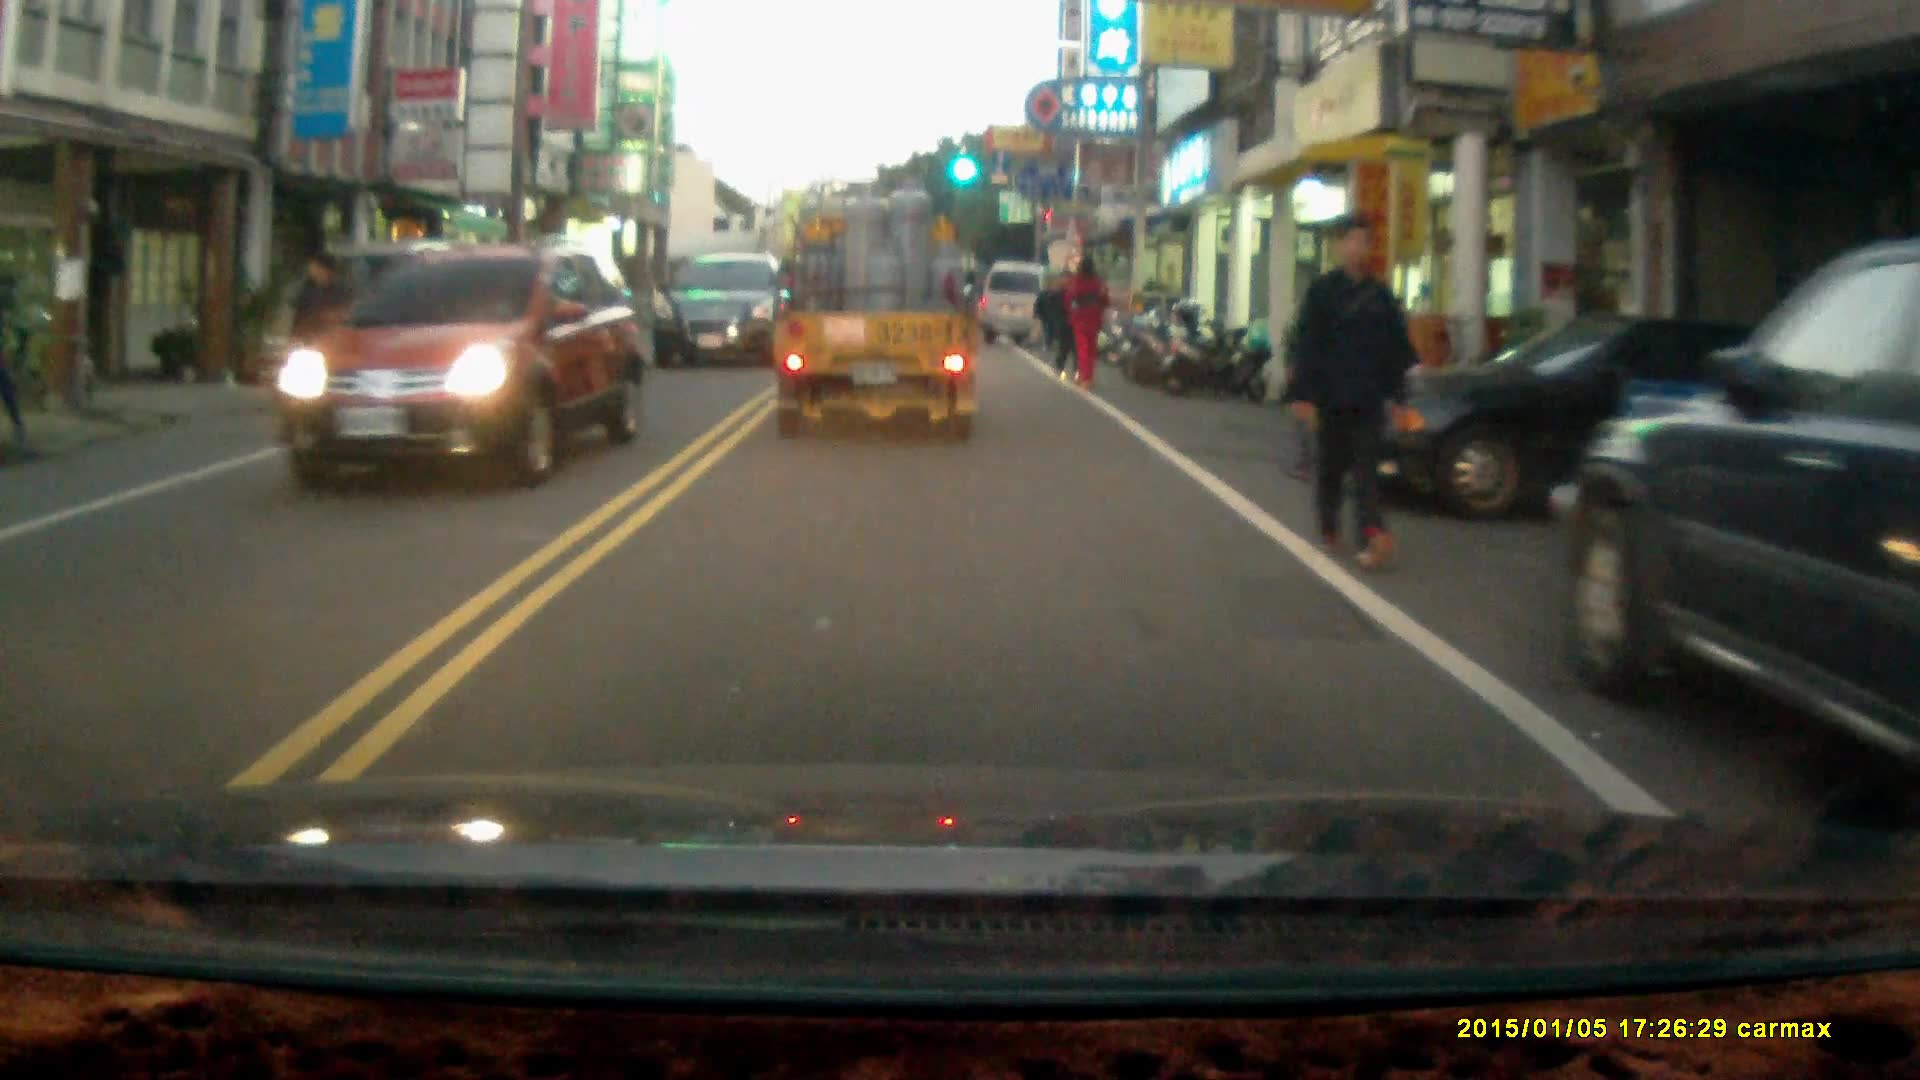pedestrian: (1289, 215, 1414, 575), (285, 255, 348, 418), (1067, 251, 1108, 388), (1037, 272, 1064, 357)
vehicle: (1559, 243, 1920, 808), (1349, 315, 1857, 538), (265, 246, 649, 494), (773, 203, 985, 478), (655, 255, 789, 376), (984, 265, 1064, 354)
